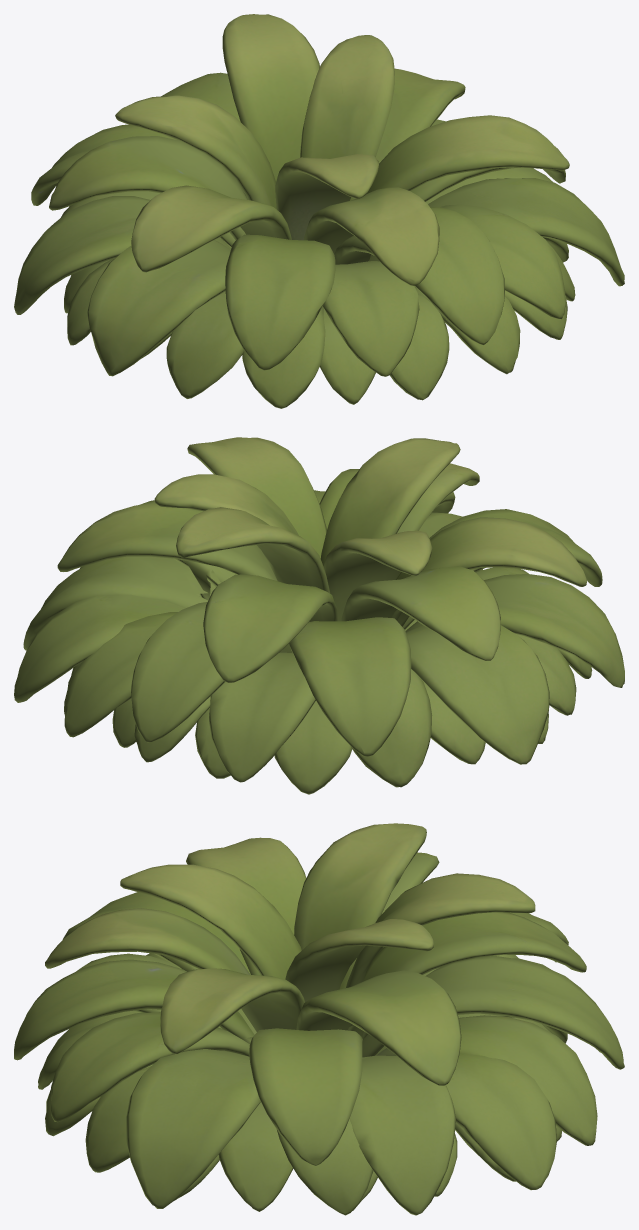
Rendered from Meshy_AI_Soft_Green_Succulent_0919225632_texture.fbx.
3 renders of one model, top to bottom at view 1: azimuth 30°, elevation 25°; view 2: azimuth 150°, elevation 25°; view 3: azimuth 270°, elevation 25°, orthographic. The views are drawn at different scales.
Parts seen in each view (by area): view 1: Mesh_0; view 2: Mesh_0; view 3: Mesh_0.
Part boxes in pixels (box(x1,y1,x2,y2)): Mesh_0: box(14, 14, 624, 408); Mesh_0: box(14, 437, 624, 794); Mesh_0: box(14, 823, 624, 1215).
Bounding box in the file's own units: 100 × 43.65 × 100.
1 material, 1 textured.
